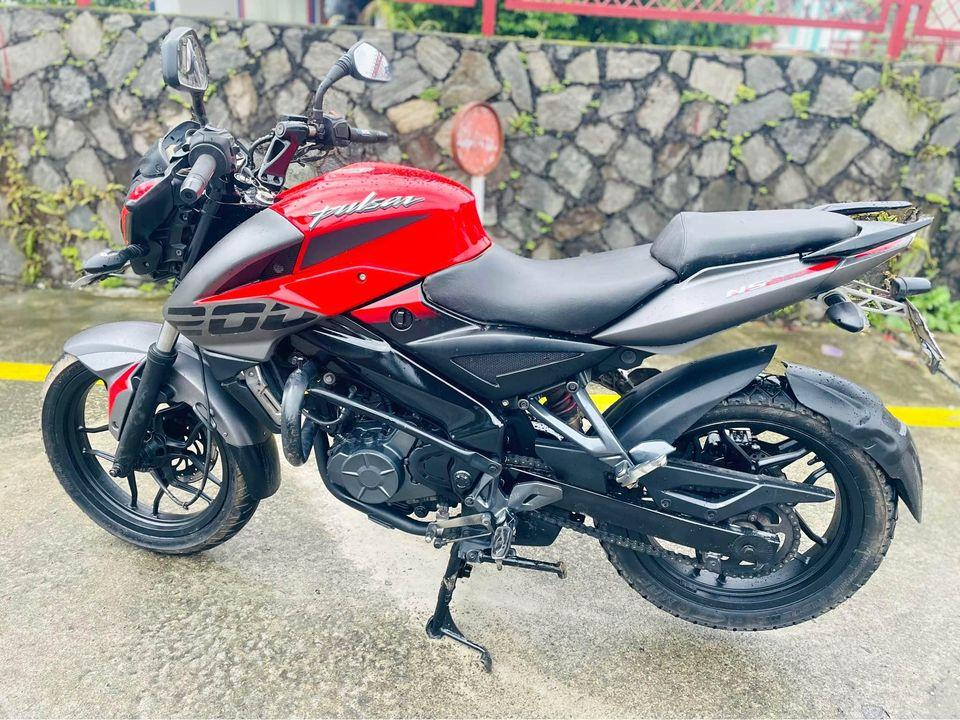bike: (26, 27, 938, 652)
